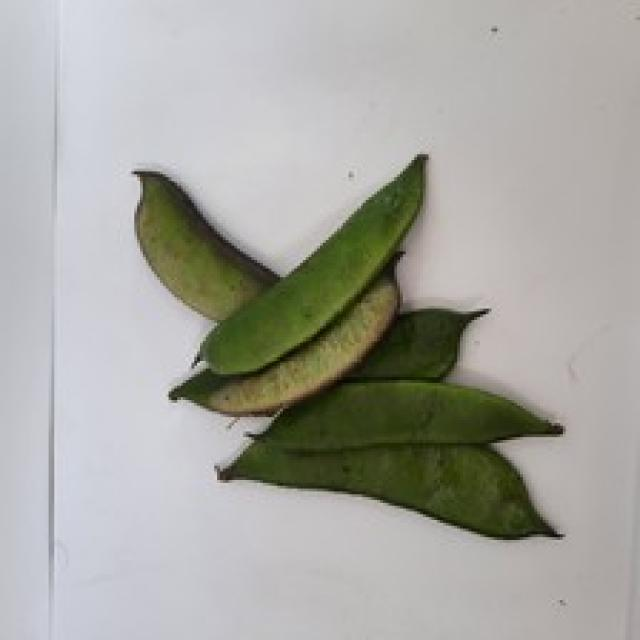Bean: (188, 152, 428, 377), (168, 249, 403, 414), (129, 166, 280, 323)
